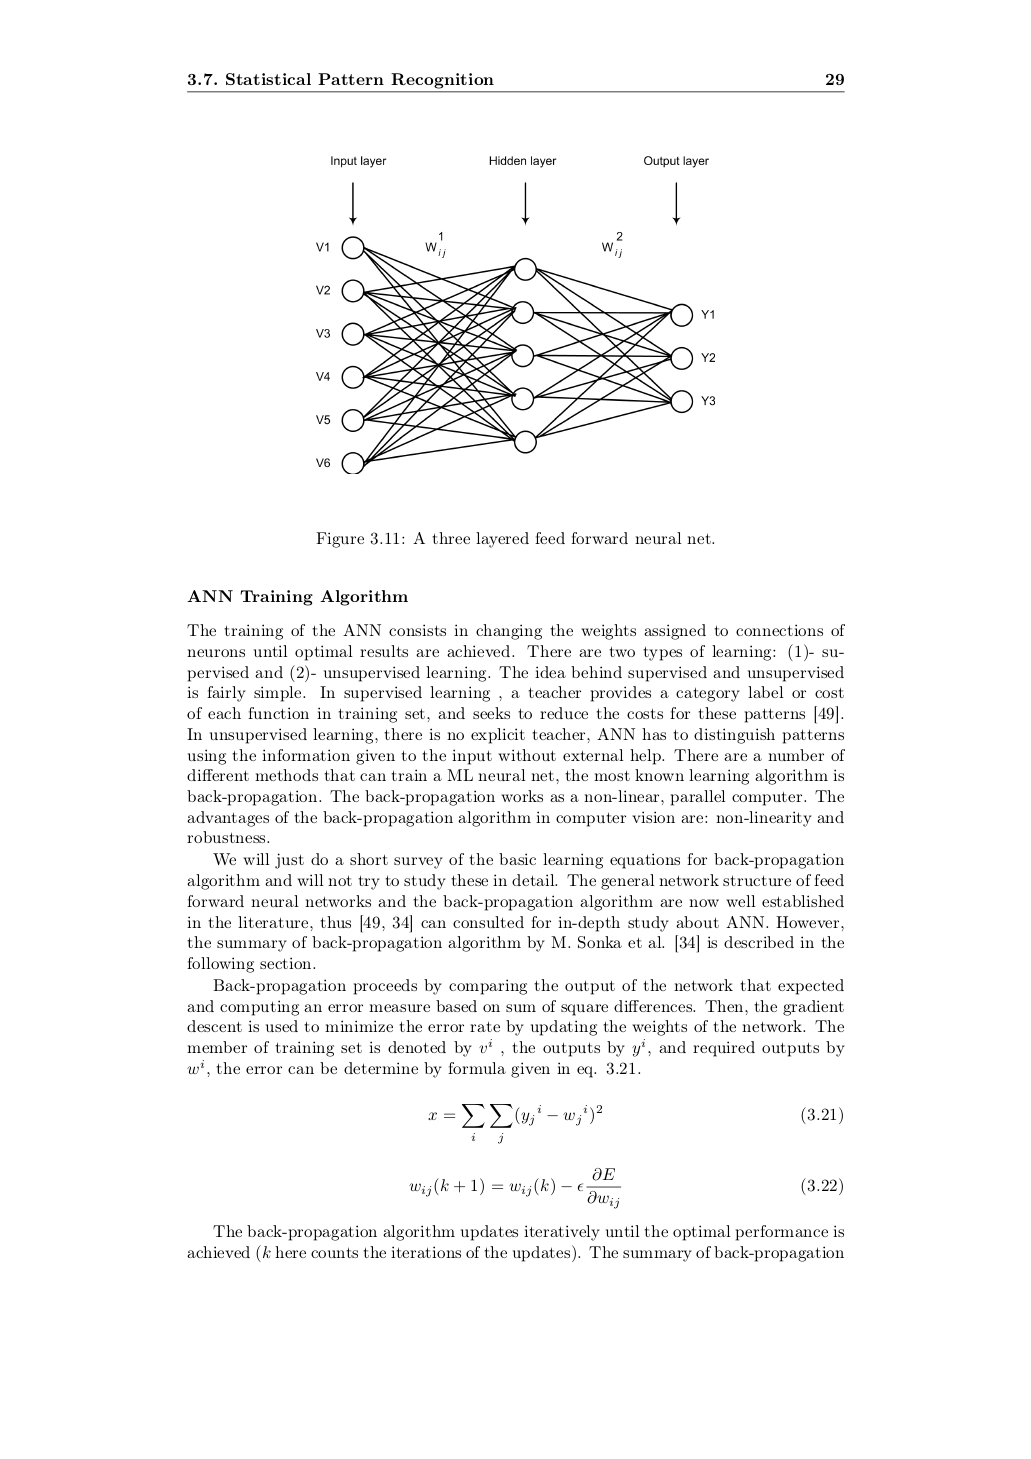figure: (316, 156, 714, 473)
formula: (409, 1166, 842, 1209), (428, 1104, 842, 1143)
